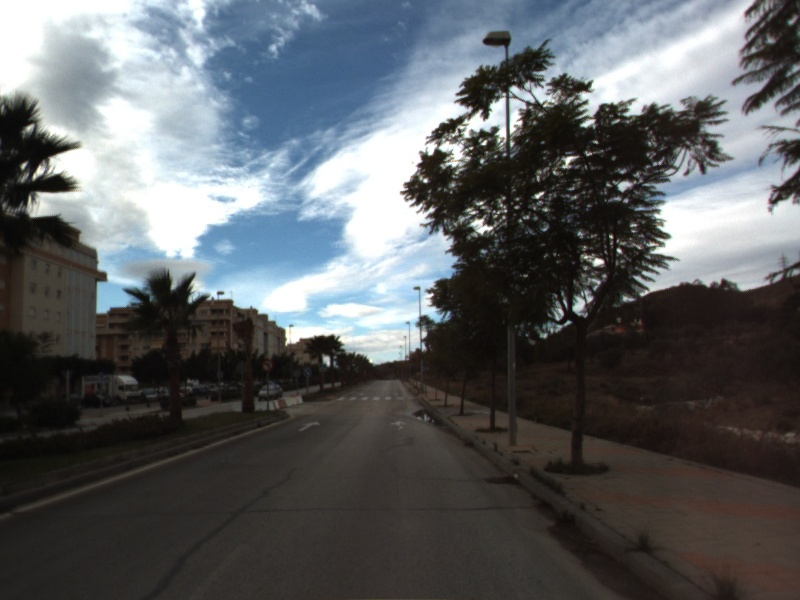STRAIGHT: (296, 419, 323, 433), (389, 418, 409, 433)
